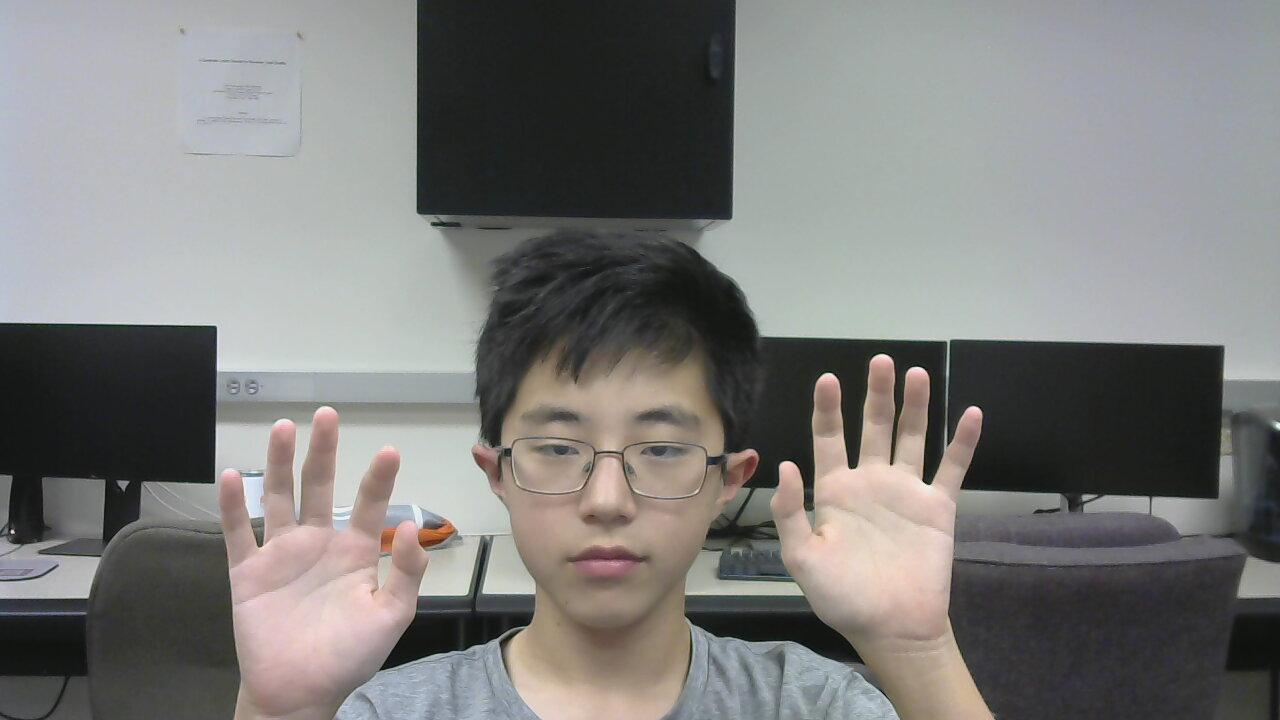hands: (206, 388, 434, 707), (777, 348, 982, 654)
